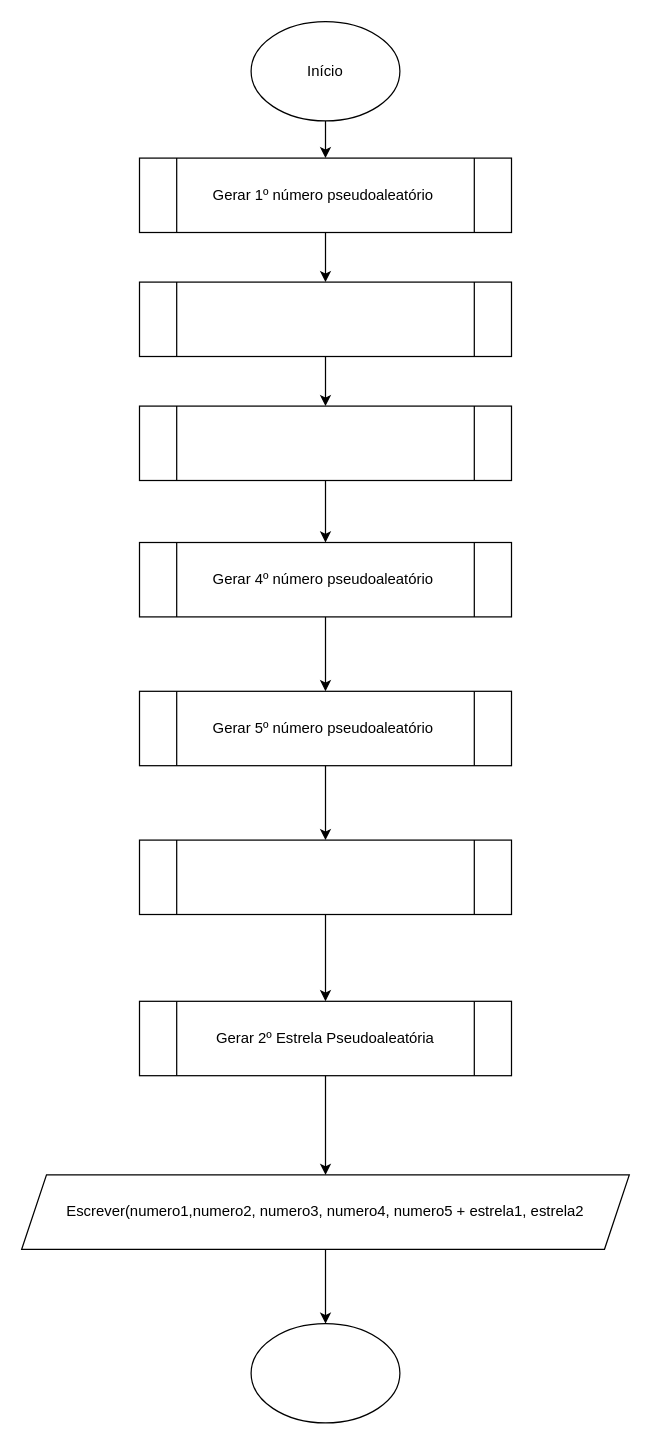
Image size: 651x1445. Some labels were removed from this diagram. The centre of each missing label's shape, as x and y in pixels:
Gerar 1º Estrela Pseudoaleatória: (325,876)
Gerar 2º número pseudoaleatório: (325,318)
Gerar 3º número pseudoaleatório: (325,442)
